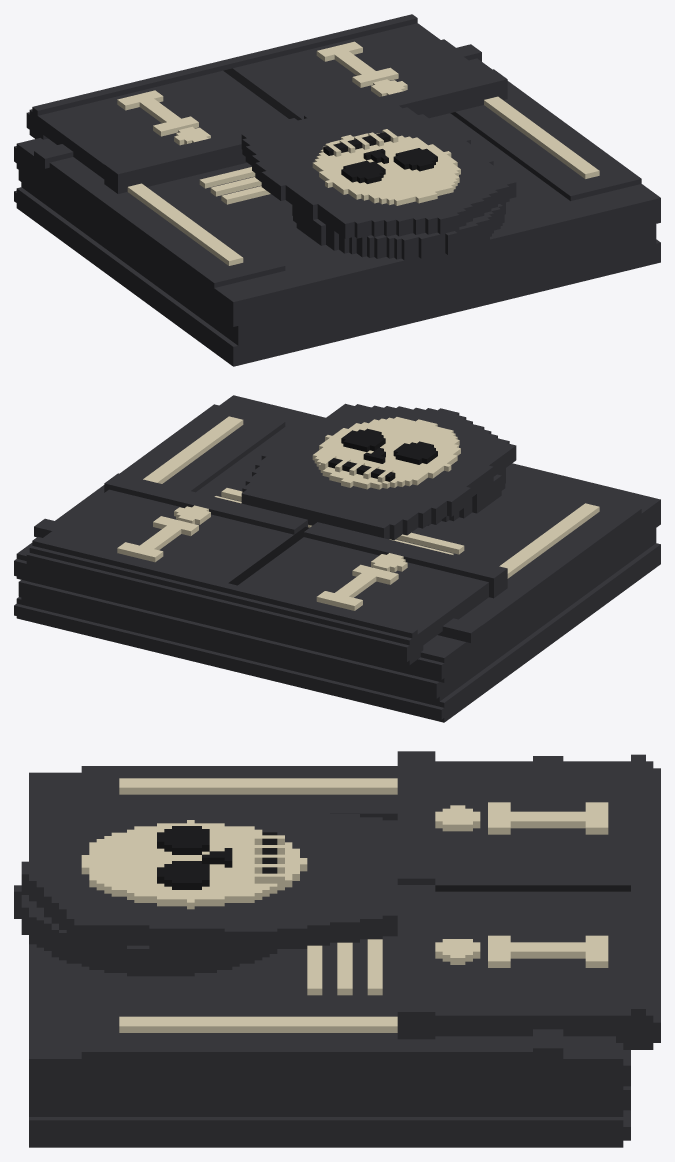
Rendered from jumpsuit_skeleton_zipped.glb.
3 renders of one model, top to bottom at view 1: azimuth 30°, elevation 25°; view 2: azimuth 150°, elevation 25°; view 3: azimuth 270°, elevation 25°, orthographic. The views are drawn at different scales.
Parts seen in each view (by area): view 1: jumpsuit_skeleton_zipped:compound; view 2: jumpsuit_skeleton_zipped:compound; view 3: jumpsuit_skeleton_zipped:compound.
Boxes of the visible parts, x1,y1,x2,y2 form: jumpsuit_skeleton_zipped:compound: (14, 14, 660, 366); jumpsuit_skeleton_zipped:compound: (14, 395, 660, 722); jumpsuit_skeleton_zipped:compound: (14, 751, 660, 1147).
Bounding box in the file's own units: 0.368 × 0.088 × 0.344.
